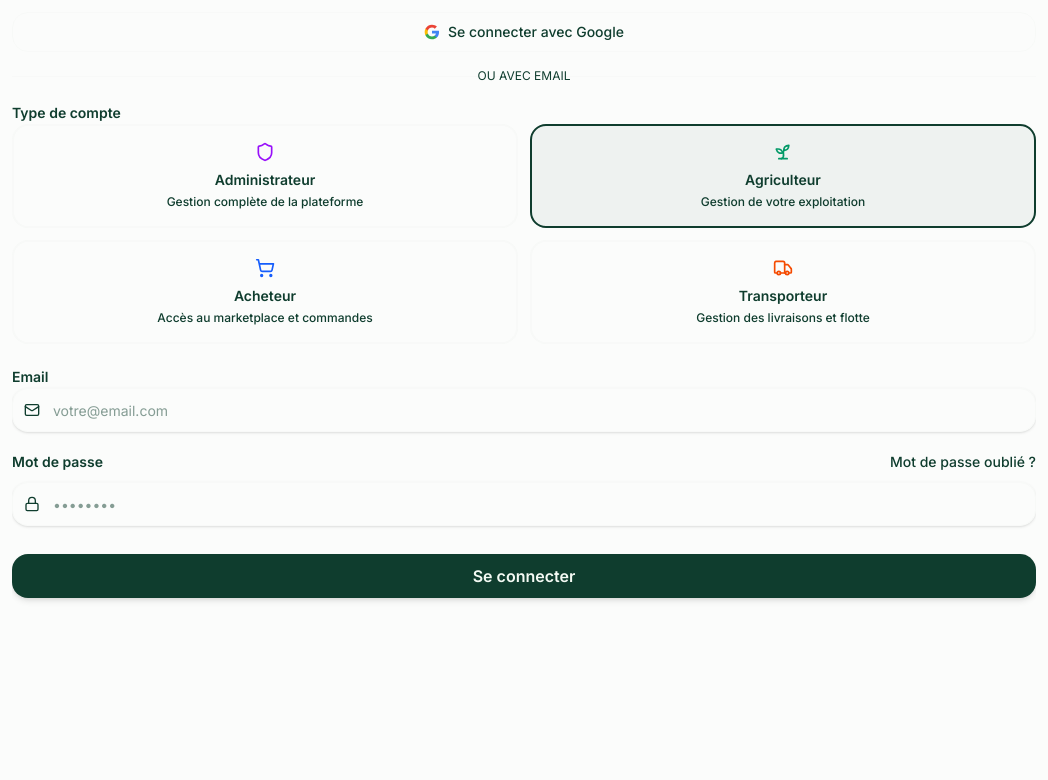
Scenario: LoginForm › Validation des champs › devrait afficher une erreur si le mot de passe est vide
The width and height of the screenshot is (1048, 780).
Click the password field labelled "Mot de passe". click: (524, 504)
box: [12,482,1036,526]
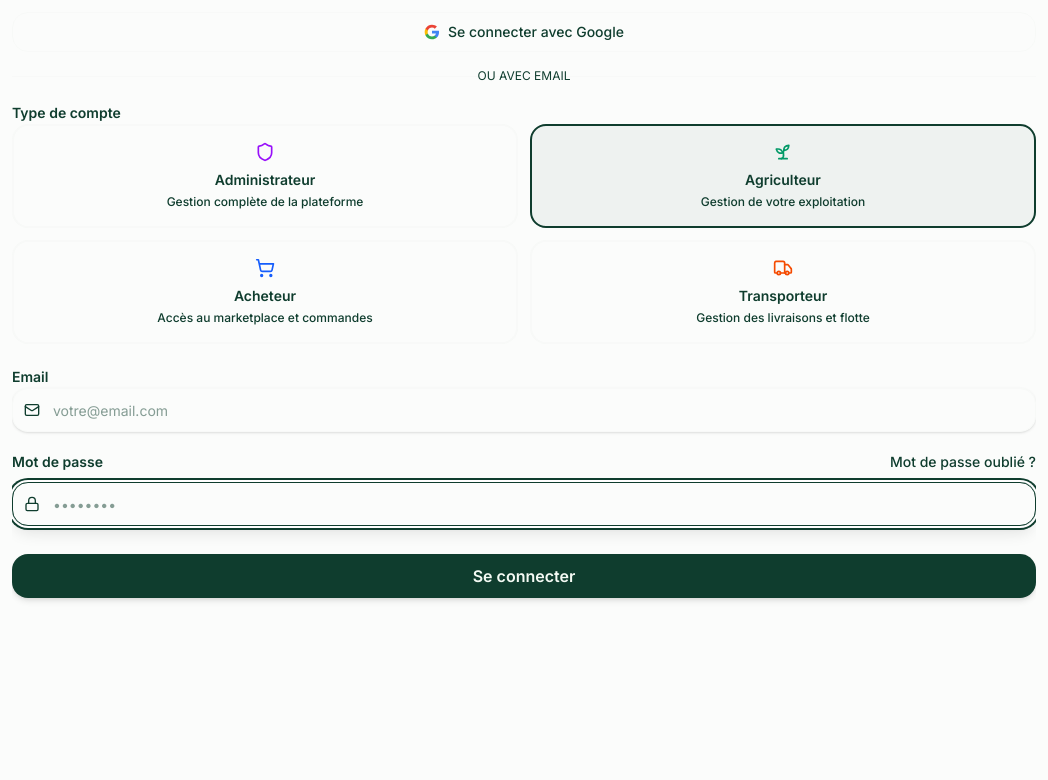
Press Tab
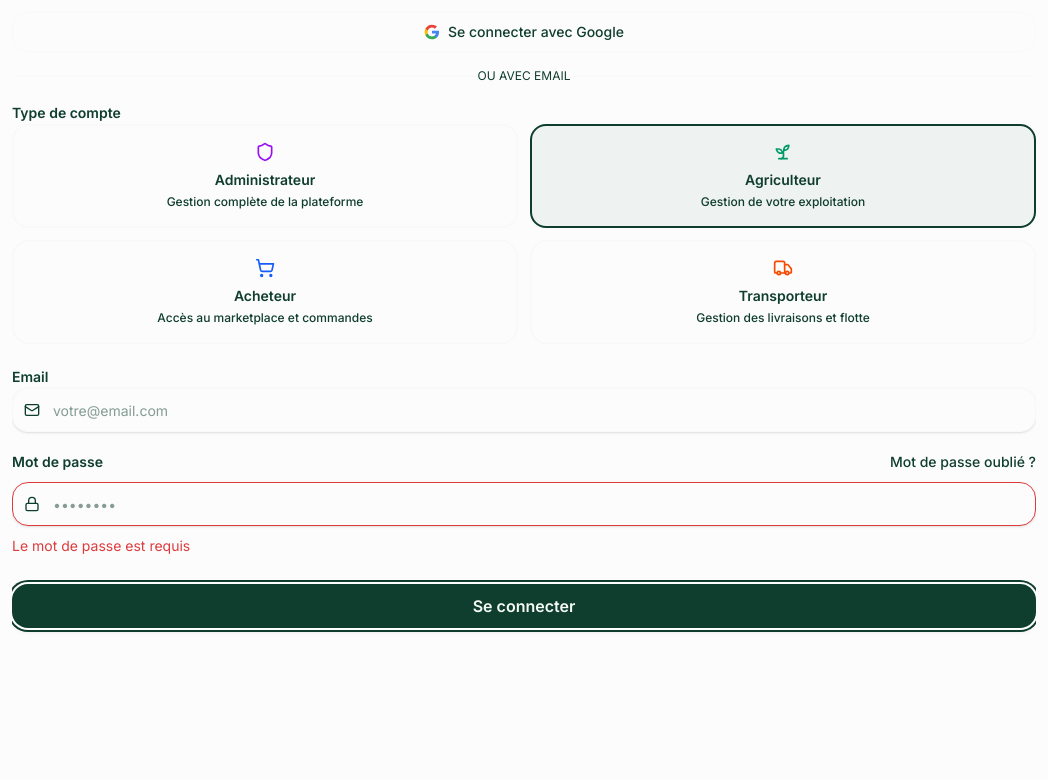
expect the text "Le mot de passe est requis" is shown: met, box [12,537,190,554]
